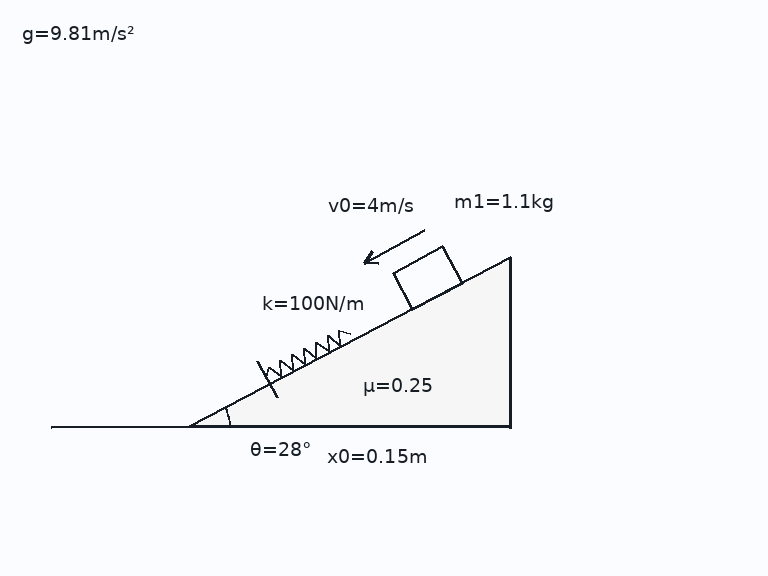block: (391, 245, 463, 311)
ramp: (188, 255, 512, 429)
spring: (264, 327, 351, 379)
